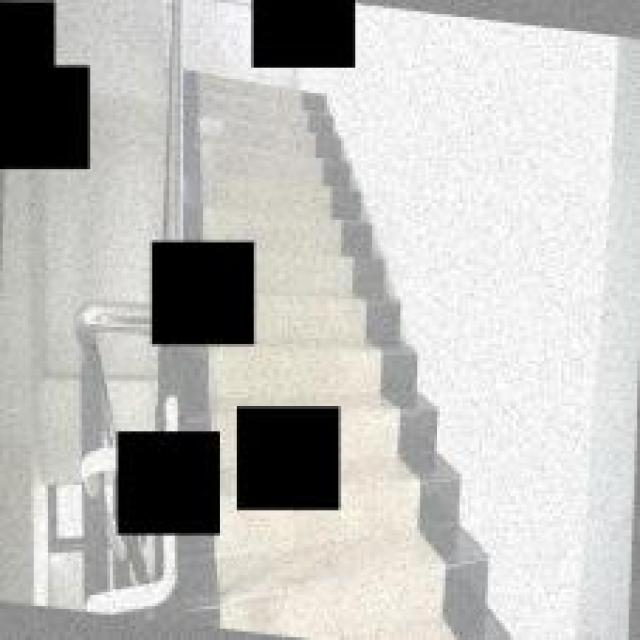upstair: (200, 70, 338, 220)
